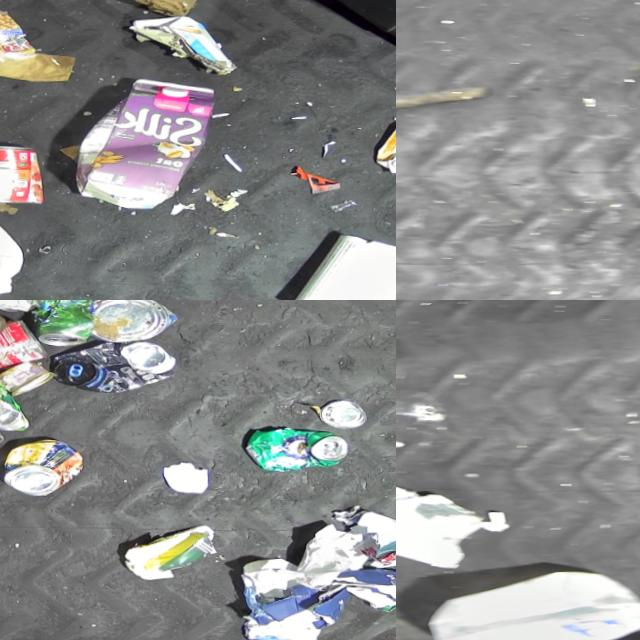can: (53, 334, 177, 393), (245, 422, 351, 470), (3, 434, 86, 495), (0, 133, 58, 207), (91, 300, 178, 340), (0, 313, 48, 381), (30, 300, 96, 346), (0, 357, 54, 395), (0, 376, 30, 430), (320, 394, 368, 424)
milk_jug: (426, 560, 640, 640)
